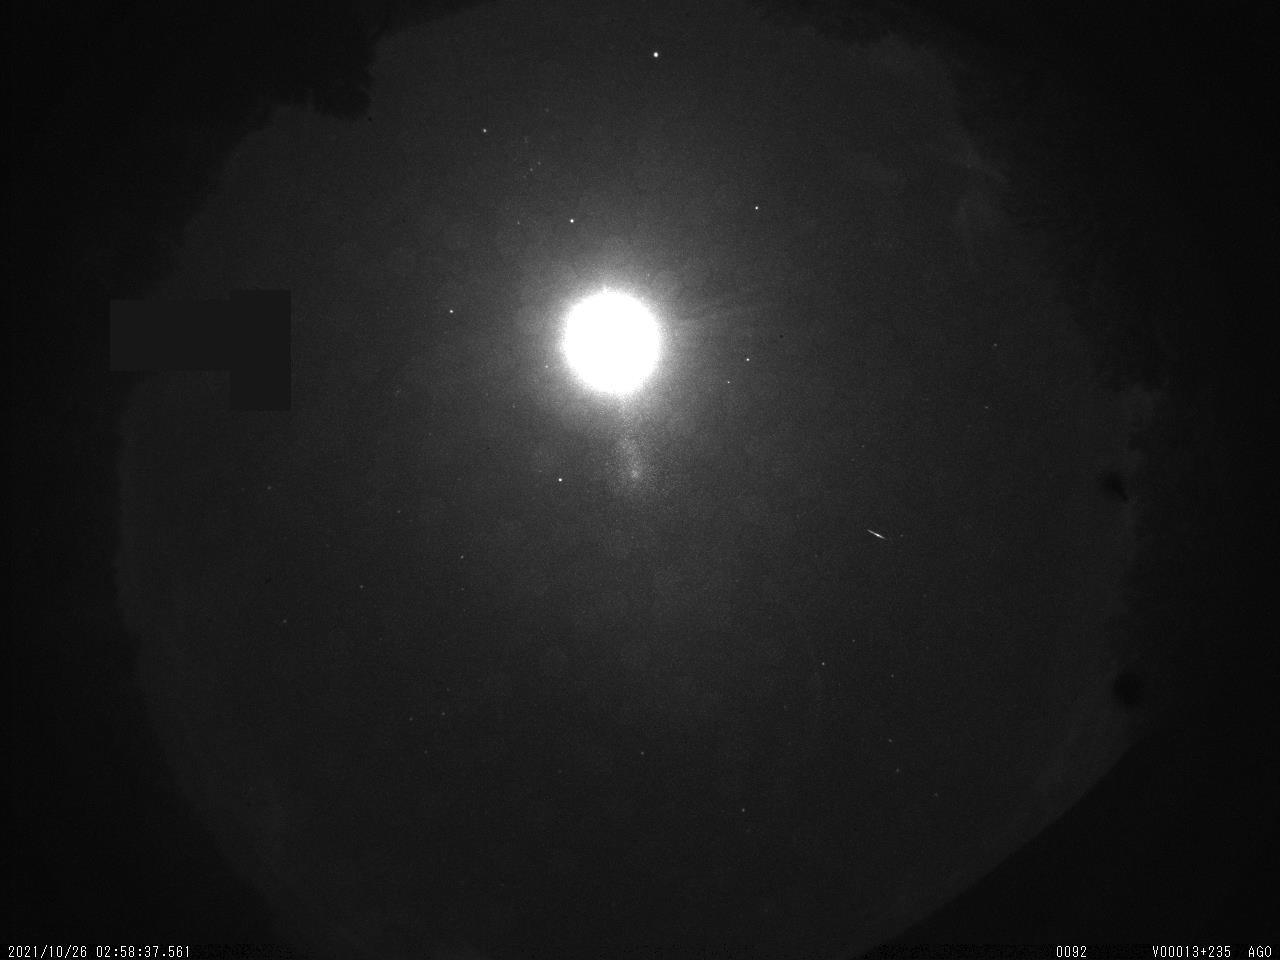meteor: (860, 520, 891, 551)
